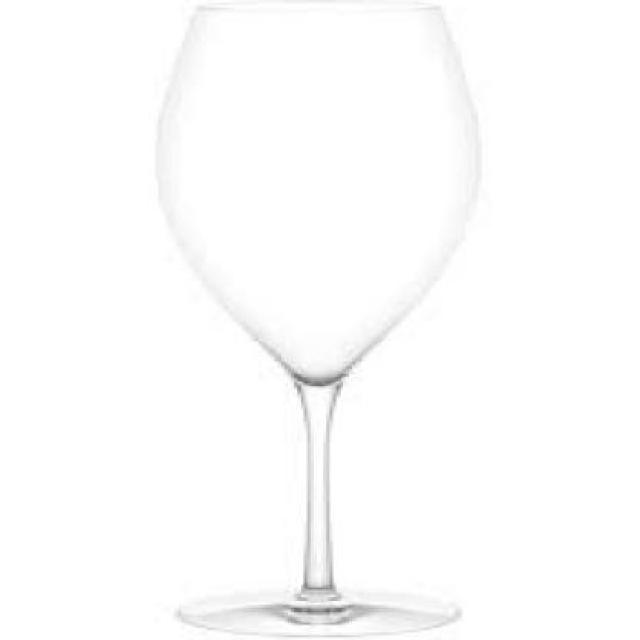kaca: (147, 0, 480, 638)
